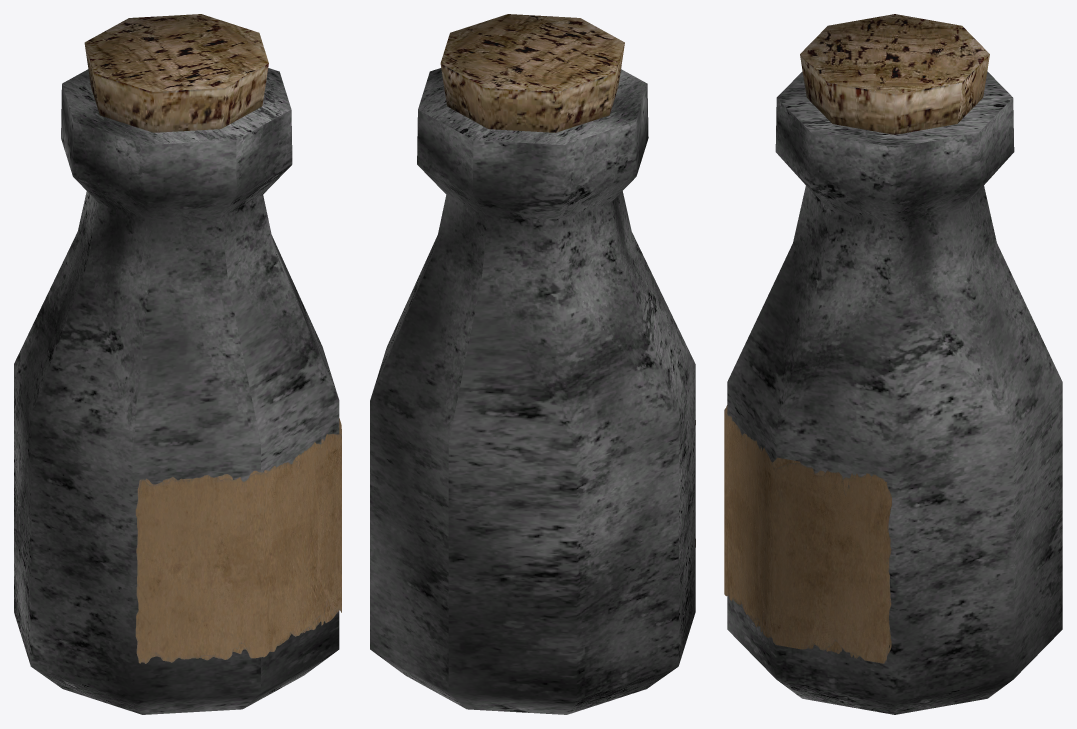
Rendered from key_jar.dae.
The picture shows the model from 3 angles, left to right: view 1: azimuth 30°, elevation 25°; view 2: azimuth 150°, elevation 25°; view 3: azimuth 270°, elevation 25°; orthographic projection.
Parts seen in each view (by area): view 1: pCylinder3, polySurface10, polySurface11, polySurface9; view 2: pCylinder3, polySurface11; view 3: pCylinder3, polySurface10, polySurface11, polySurface9.
Part boxes in pixels (x1,y1,x2,y2): pCylinder3: (14,68,339,714); polySurface10: (135,422,341,663); polySurface11: (84,14,268,132); polySurface9: (137,418,341,662); pCylinder3: (370,68,695,714); polySurface11: (440,14,624,132); pCylinder3: (727,71,1062,714); polySurface10: (724,407,891,663); polySurface11: (800,14,989,134); polySurface9: (724,405,891,662).
Bounding box in the file's own units: 0.1065 × 0.2116 × 0.1071.
